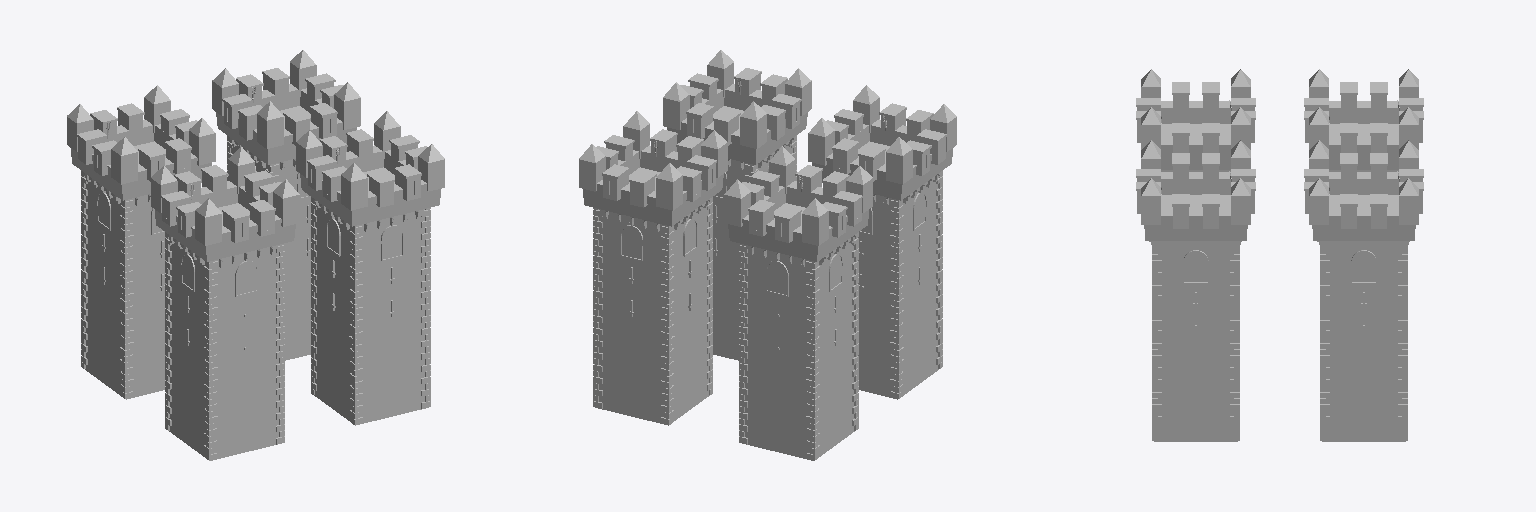
Rendered from CrossSection 1.obj.
3 renders of one model, left to right at view 1: azimuth 30°, elevation 25°; view 2: azimuth 150°, elevation 25°; view 3: azimuth 270°, elevation 25°, orthographic.
Visible parts, largest first — view 1: CrossSection_Plane.011; view 2: CrossSection_Plane.011; view 3: CrossSection_Plane.011.
Part boxes in pixels (left/top/right/bottom): CrossSection_Plane.011: left=67, top=50, right=444, bottom=460; CrossSection_Plane.011: left=579, top=50, right=956, bottom=460; CrossSection_Plane.011: left=1136, top=69, right=1423, bottom=441.
Bounding box in the file's own units: 13.74 × 13.91 × 13.74.